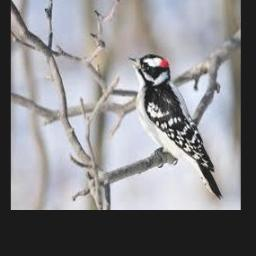Woodpecker: (126, 54, 223, 200)
